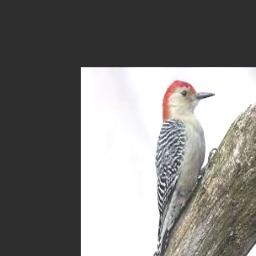Woodpecker: (144, 80, 215, 256)
